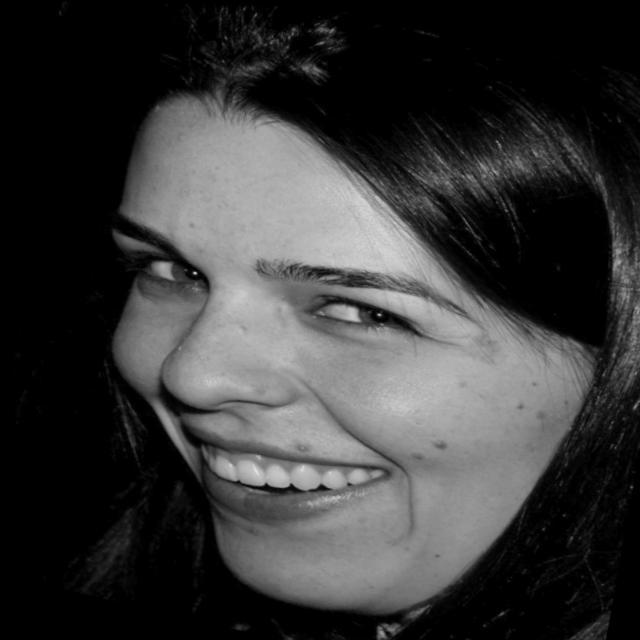puffy_eyes: (291, 315, 416, 359), (136, 277, 205, 311)
